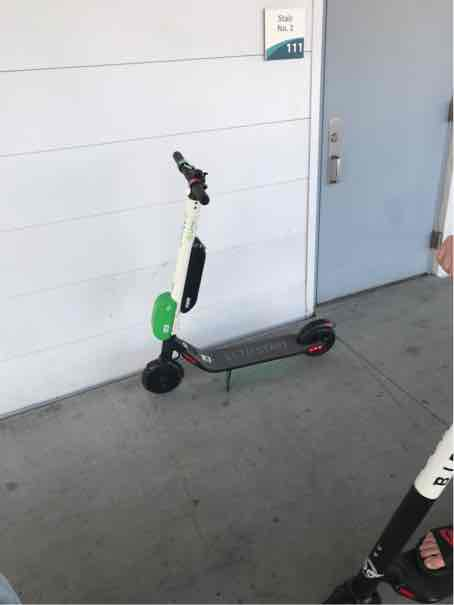scooter: (136, 142, 353, 394)
